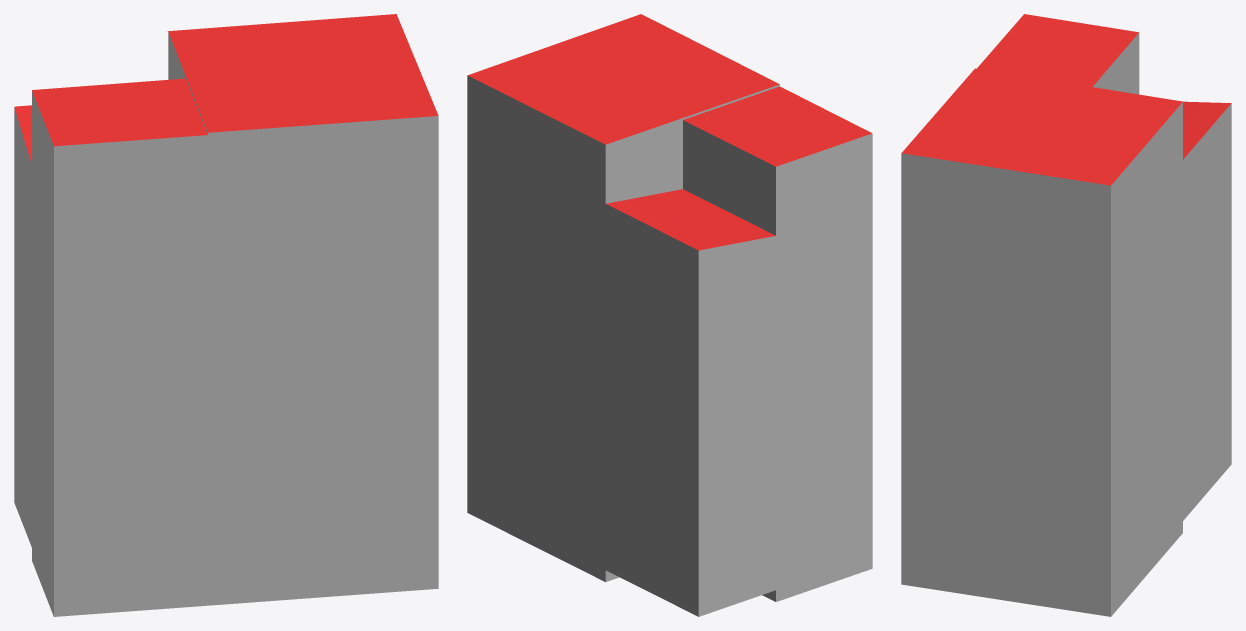
File: DEBE3D04YY50000HpD.dae
3 renders of one model, left to right at view 1: azimuth 30°, elevation 25°; view 2: azimuth 150°, elevation 25°; view 3: azimuth 270°, elevation 25°, orthographic. The views are drawn at different scales.
Bounding box in the file's own units: 19.61 × 15.75 × 22.7.
